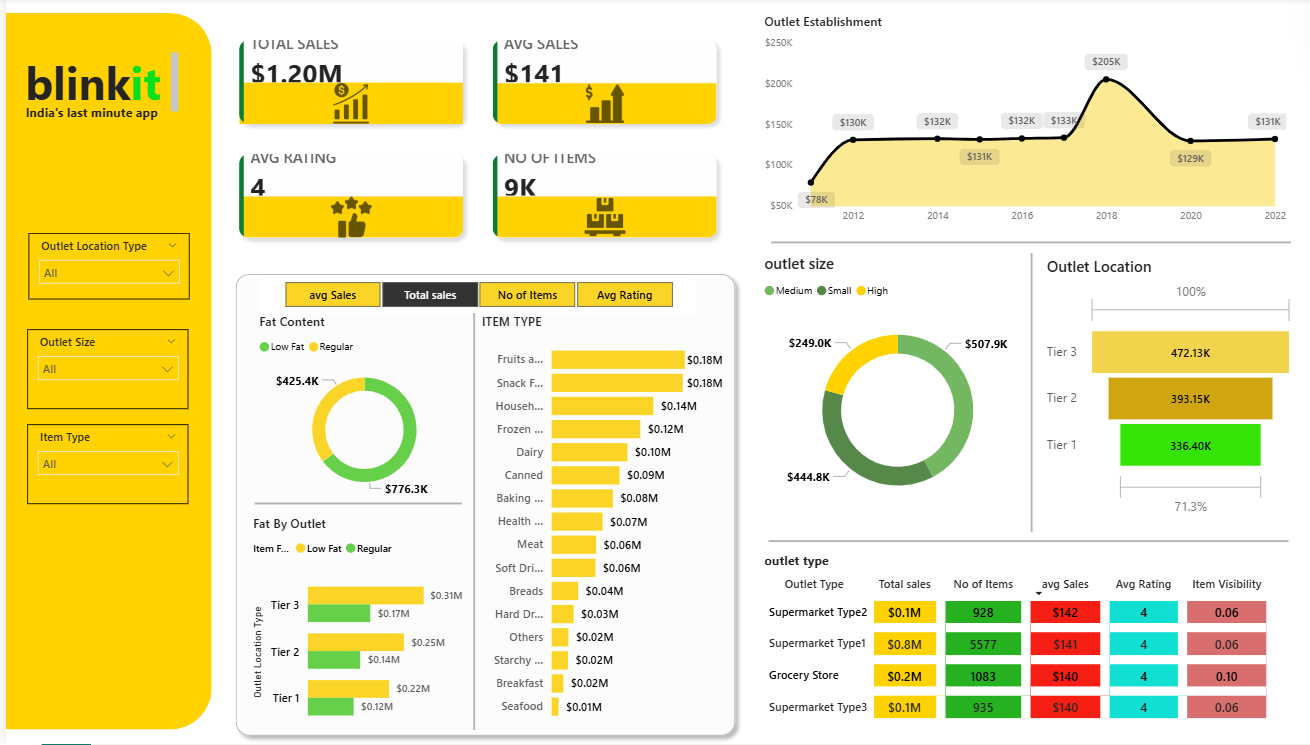

This screenshot's page, from the dashboard's own definition file:
{"tool":"powerbi","page":{"name":"Page 1","canvas":[1400,800],"ordinal":0},"visuals":[{"type":"shape","box":[0,16.5,220.6,768.4],"z":0},{"type":"textbox","box":[16.5,54,174.1,73.5],"z":1000},{"type":"textbox","box":[16.5,108.1,166.6,37.5],"z":2000},{"type":"cardVisual","fields":{"Data":["BlinkIT Grocery Data.Total sales","BlinkIT Grocery Data.avg Sales","BlinkIT Grocery Data.Avg Rating","BlinkIT Grocery Data.No of Items"]},"box":[220.6,16.5,570.3,270.2],"z":3000},{"type":"shape","box":[237.1,286.7,553.8,513.3],"z":4000},{"type":"donutChart","title":" Fat Content","fields":{"Y":["BlinkIT Grocery Data.Avg Rating"],"Category":["BlinkIT Grocery Data.Item Fat Content"]},"box":[267.2,337.7,235.6,205.6],"z":5000},{"type":"slicer","fields":{"Values":["metrics.metrics"]},"box":[273.2,297.2,465.3,40.5],"z":6000},{"type":"clusteredBarChart","title":"Fat By Outlet","fields":{"Y":["BlinkIT Grocery Data.Avg Rating"],"Category":["BlinkIT Grocery Data.Outlet Location Type"],"Series":["BlinkIT Grocery Data.Item Fat Content"]},"box":[260.1,553.6,234.6,242.6],"z":7000},{"type":"shape","box":[267.2,531.3,222.1,22.5],"z":8000},{"type":"shape","box":[489.3,337.7,25.5,447.3],"z":9000},{"type":"barChart","title":"ITEM TYPE","fields":{"Y":["BlinkIT Grocery Data.Avg Rating"],"Category":["BlinkIT Grocery Data.Item Type"]},"box":[505.8,337.7,268.7,447.3],"z":10000},{"type":"lineChart","title":" Outlet Establishment ","fields":{"Y":["BlinkIT Grocery Data.Total sales"],"Category":["BlinkIT Grocery Data.Outlet Establishment Year"]},"box":[808.3,16.1,569.7,234.6],"z":11000},{"type":"shape","box":[820.4,250.7,557.6,22.8],"z":12000},{"type":"donutChart","title":"outlet size","fields":{"Y":["BlinkIT Grocery Data.Total sales"],"Category":["BlinkIT Grocery Data.Outlet Size"]},"box":[808.3,273.5,296.2,288.2],"z":13000},{"type":"shape","box":[1093.8,273.5,12.1,298.9],"z":14000},{"type":"funnel","title":" Outlet Location ","fields":{"Category":["BlinkIT Grocery Data.Outlet Location Type"],"Y":["Sum(BlinkIT Grocery Data.Sales)"]},"box":[1111.3,276.1,274.8,285.5],"z":15000},{"type":"shape","box":[817.7,571,557.6,22.8],"z":16000},{"type":"pivotTable","title":"outlet type","fields":{"Rows":["BlinkIT Grocery Data.Outlet Type"],"Values":["BlinkIT Grocery Data.Total sales","BlinkIT Grocery Data.No of Items","BlinkIT Grocery Data.avg Sales","BlinkIT Grocery Data.Avg Rating","Avg(BlinkIT Grocery Data.Item Visibility)"]},"box":[808.3,593.8,567,206.4],"z":17000},{"type":"slicer","fields":{"Values":["BlinkIT Grocery Data.Outlet Location Type"]},"box":[24.1,252,172.9,71],"z":18000},{"type":"slicer","fields":{"Values":["BlinkIT Grocery Data.Outlet Size"]},"box":[22.8,355.2,172.9,85.8],"z":19000},{"type":"slicer","fields":{"Values":["BlinkIT Grocery Data.Item Type"]},"box":[22.8,457.1,172.9,85.8],"z":20000}]}

Visuals, with their boxes in screenshot pixels (x1, y1, x2, y2), scaled from the page's 1400x800 canvas onto the 1310x745 screenshot:
shape: box=[0, 15, 206, 731]
textbox: box=[15, 50, 178, 119]
textbox: box=[15, 101, 171, 136]
cardVisual - BlinkIT Grocery Data.Total sales x BlinkIT Grocery Data.avg Sales: box=[206, 15, 740, 267]
shape: box=[222, 267, 740, 744]
" Fat Content" donutChart: box=[250, 314, 470, 506]
slicer - metrics.metrics: box=[256, 277, 691, 314]
"Fat By Outlet" clusteredBarChart: box=[243, 516, 463, 741]
shape: box=[250, 495, 458, 516]
shape: box=[458, 314, 482, 731]
"ITEM TYPE" barChart: box=[473, 314, 725, 731]
" Outlet Establishment " lineChart: box=[756, 15, 1289, 233]
shape: box=[768, 233, 1289, 255]
"outlet size" donutChart: box=[756, 255, 1033, 523]
shape: box=[1023, 255, 1035, 533]
" Outlet Location " funnel: box=[1040, 257, 1297, 523]
shape: box=[765, 532, 1287, 553]
"outlet type" pivotTable: box=[756, 553, 1287, 744]
slicer - BlinkIT Grocery Data.Outlet Location Type: box=[23, 235, 184, 301]
slicer - BlinkIT Grocery Data.Outlet Size: box=[21, 331, 183, 411]
slicer - BlinkIT Grocery Data.Item Type: box=[21, 426, 183, 506]
